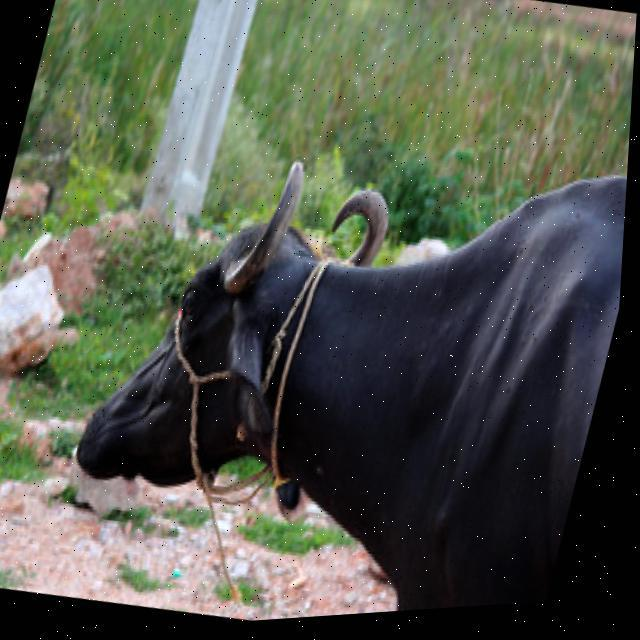Buffalo: (34, 75, 633, 635)
